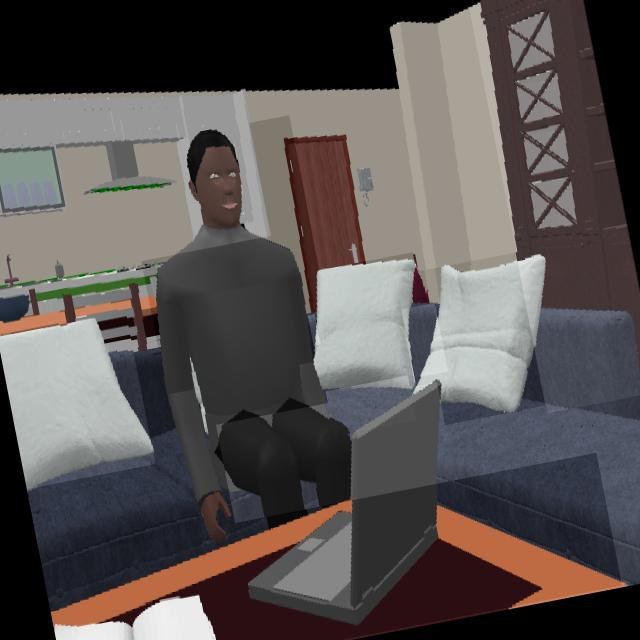book: (54, 595, 216, 640)
bookshelf: (480, 0, 640, 369)
cabinet: (0, 90, 268, 236)
laptop: (249, 383, 441, 626)
person: (157, 130, 354, 544)
pillow: (0, 319, 153, 488), (418, 257, 544, 412), (314, 262, 416, 388)
sofa: (438, 309, 640, 583), (28, 349, 217, 611), (326, 388, 411, 433), (411, 306, 438, 376), (308, 316, 316, 346)
table: (51, 501, 621, 640)
